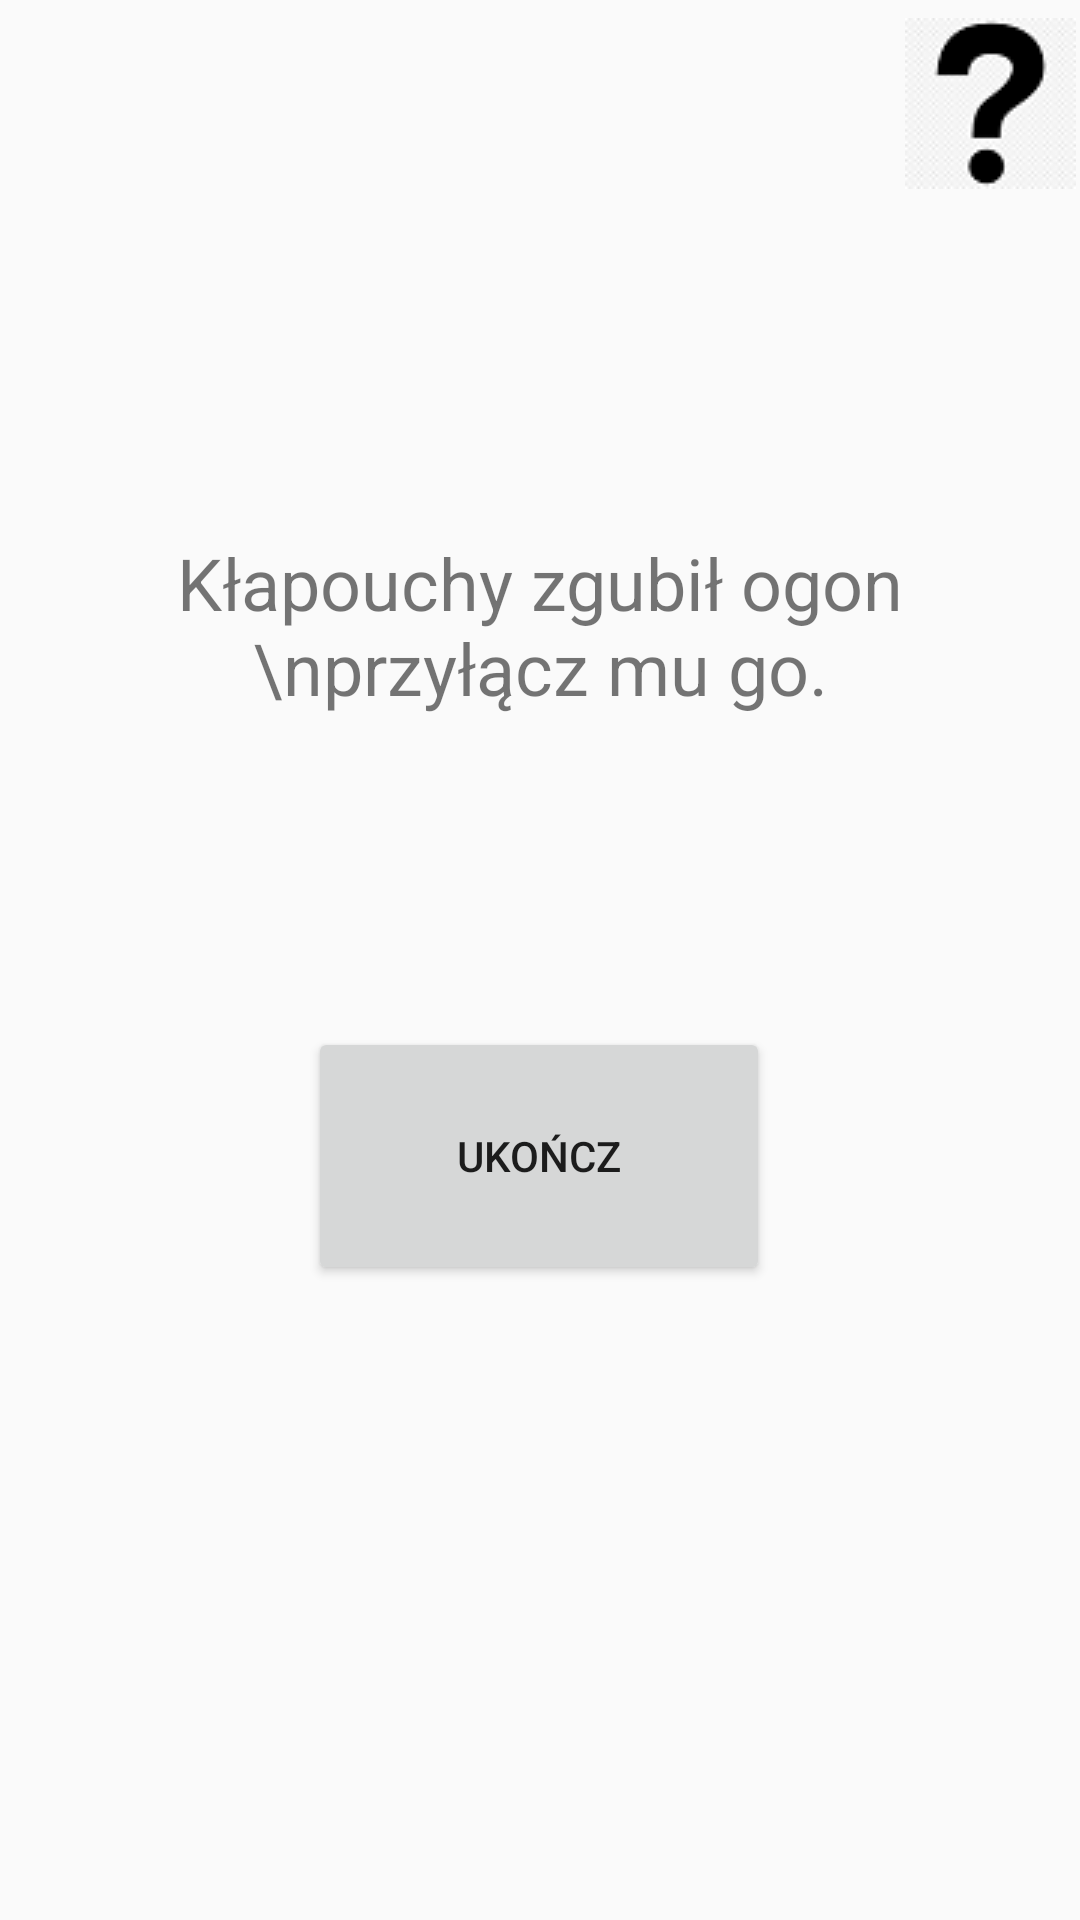

Screen size 1080w x 1920h. Icon name, then its box in pixels as (x1, y1, x2, y2):
question mark: (934, 21, 1047, 186)
